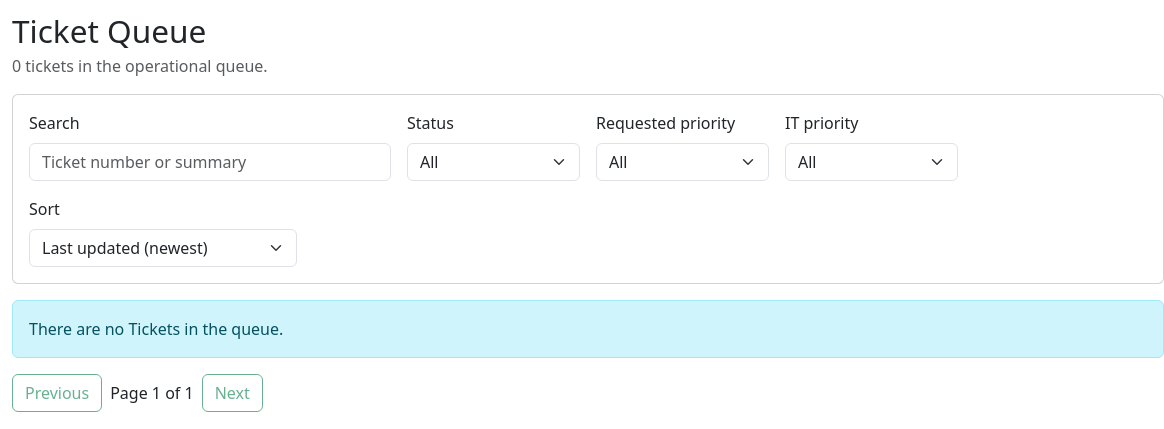
IT Staff Ticket Queue › sends a search query and distinguishes filtered no-results
Check: the message "There are no Tickets in the queue." is shown, box [12,300,1163,358]
Type "missing" into the field labelled "Search".
click(210, 162); type("missing")  # box [29,143,391,181]
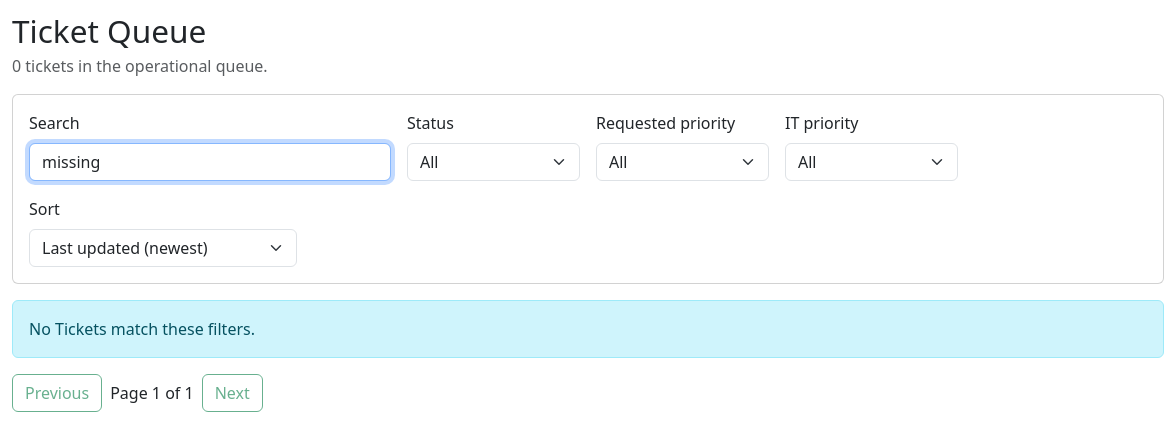
Check: the text "No Tickets match these filters." is shown, box [12,300,1163,358]
